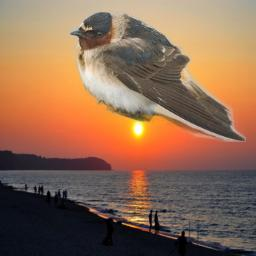Swallow: (69, 11, 246, 142)
